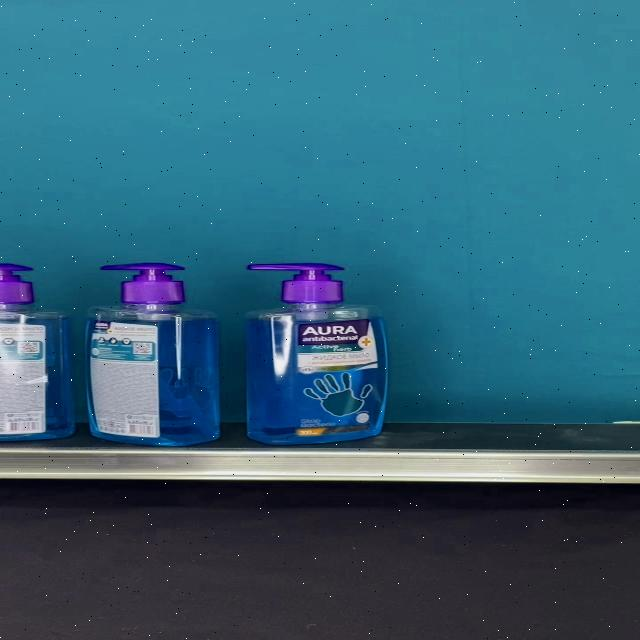Bottle: (245, 262, 388, 445), (84, 263, 220, 447)
Cap: (248, 263, 344, 305), (100, 264, 185, 306)
